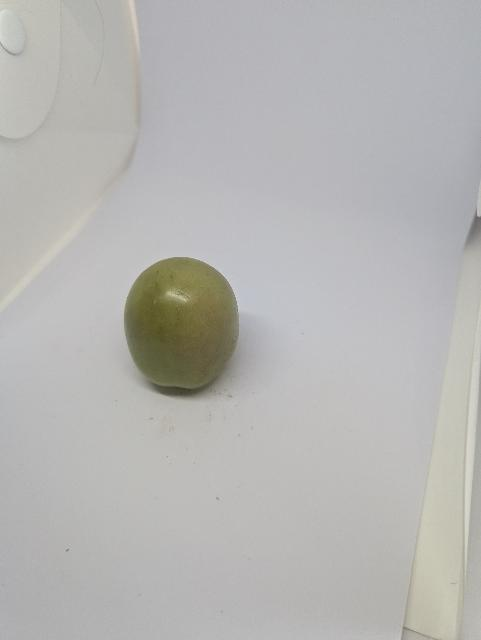green: (115, 247, 268, 408)
